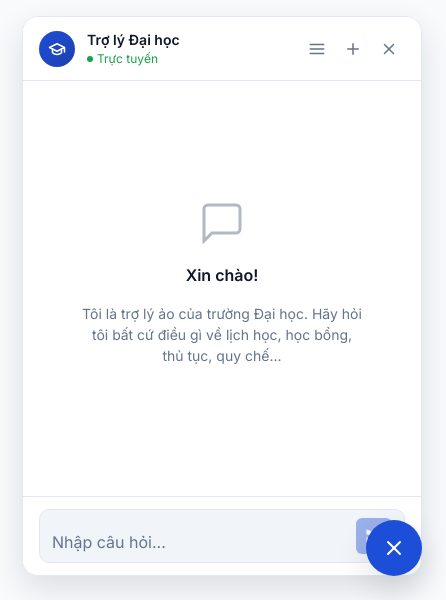
Test: ChatWidget › mở sidebar lịch sử và hiện hội thoại đã lưu
Click the button named "Lịch sử hội thoại" at [317, 48], box [301,32,333,64]
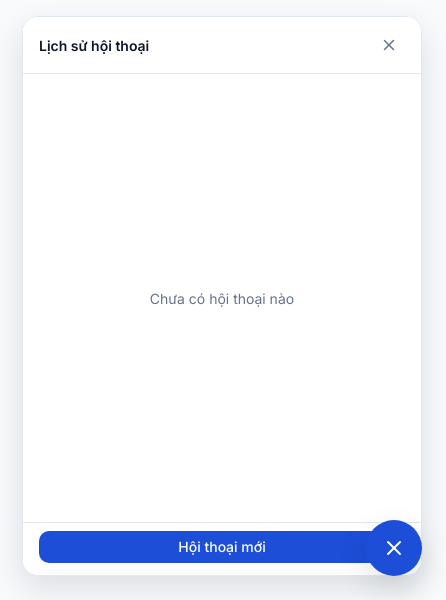
Expected: the text "Chưa có hội thoại nào" is shown, [150,290,294,306]
